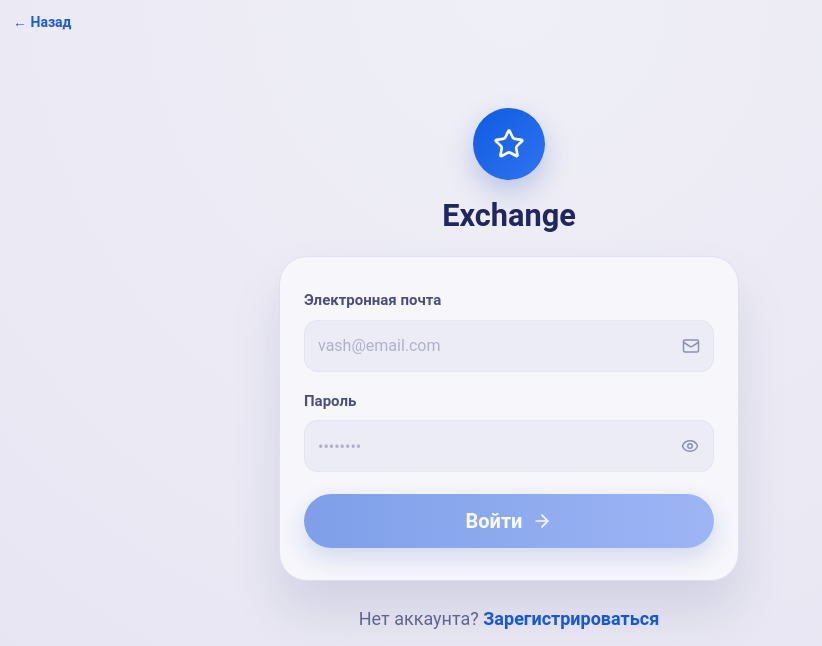
Test case: AuthForm › hides registration link for admin email
The image size is (822, 646).
Expected: the link to "/registration/step1" is shown, [483,608,659,629]
Type "admin@mail.ru" into the field with placeholder "vash@email.com".
click(509, 346); type("admin@mail.ru")  # box [304,320,714,372]
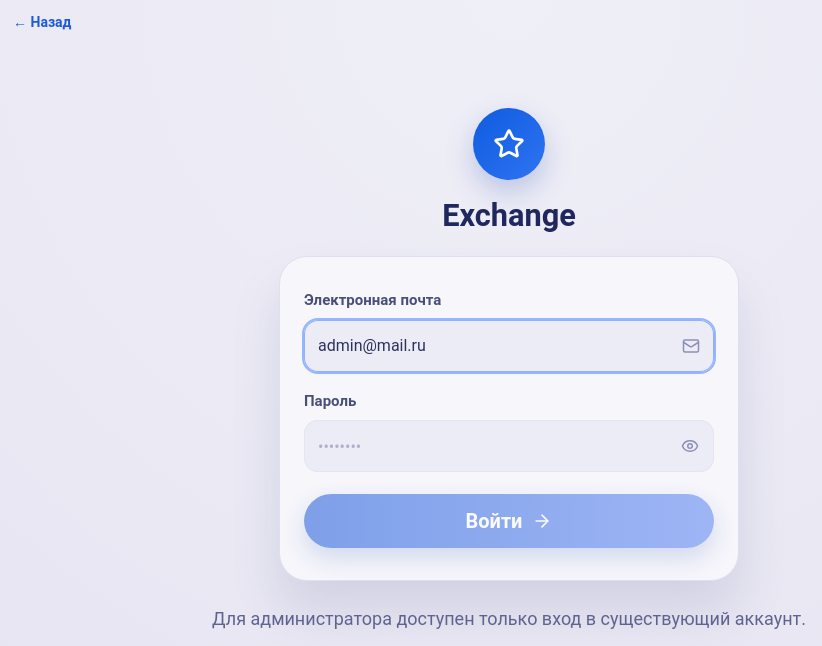
Expected: the link to "/registration/step1" is gone
